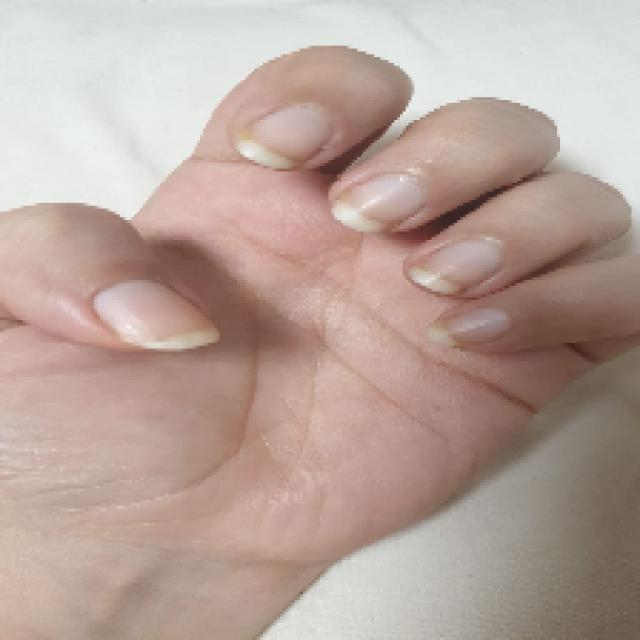Nail: (94, 280, 219, 349), (236, 102, 332, 169), (408, 236, 502, 294), (331, 174, 425, 231), (428, 308, 511, 346)
